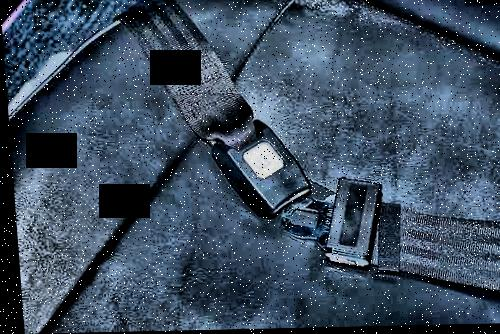seatbelt: (129, 14, 490, 301)
